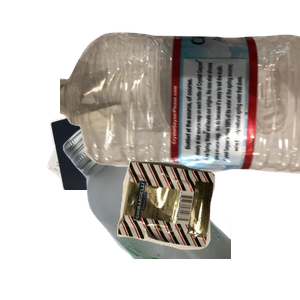glass: (60, 120, 300, 300)
paper: (45, 34, 230, 214)
plastic: (60, 30, 300, 196)
trash: (115, 158, 300, 300)
